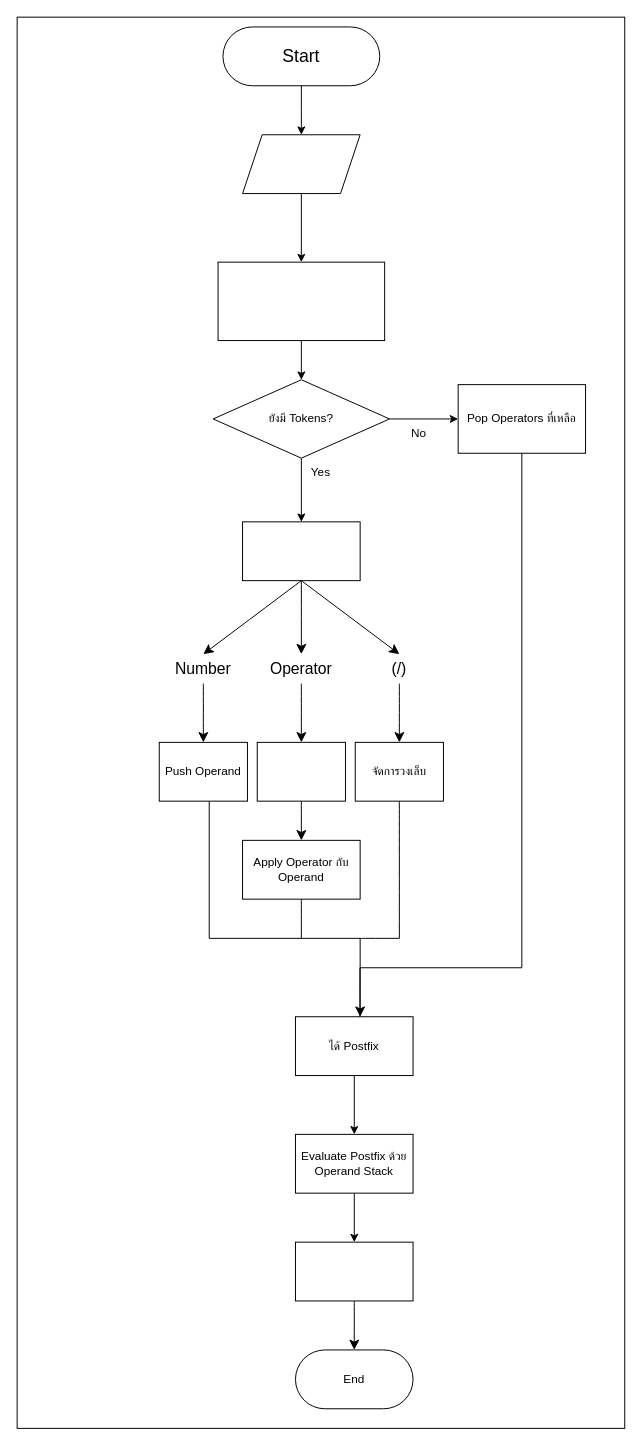
The diagram is 642 pixels wide and 1446 high, and some of its shapes have lost their labels. Here are the shapes that lost their labels. From the top down, the centre of each, then its label:
At [301,164]: "รับ Infix Token".
At [301,301]: "สร้าง Operand Stack และ Operator Stack".
At [301,551]: "Check Token Type".
At [300,771]: "เปรียบเทียบ Priority".
At [353,1271]: "แสดง Result".
